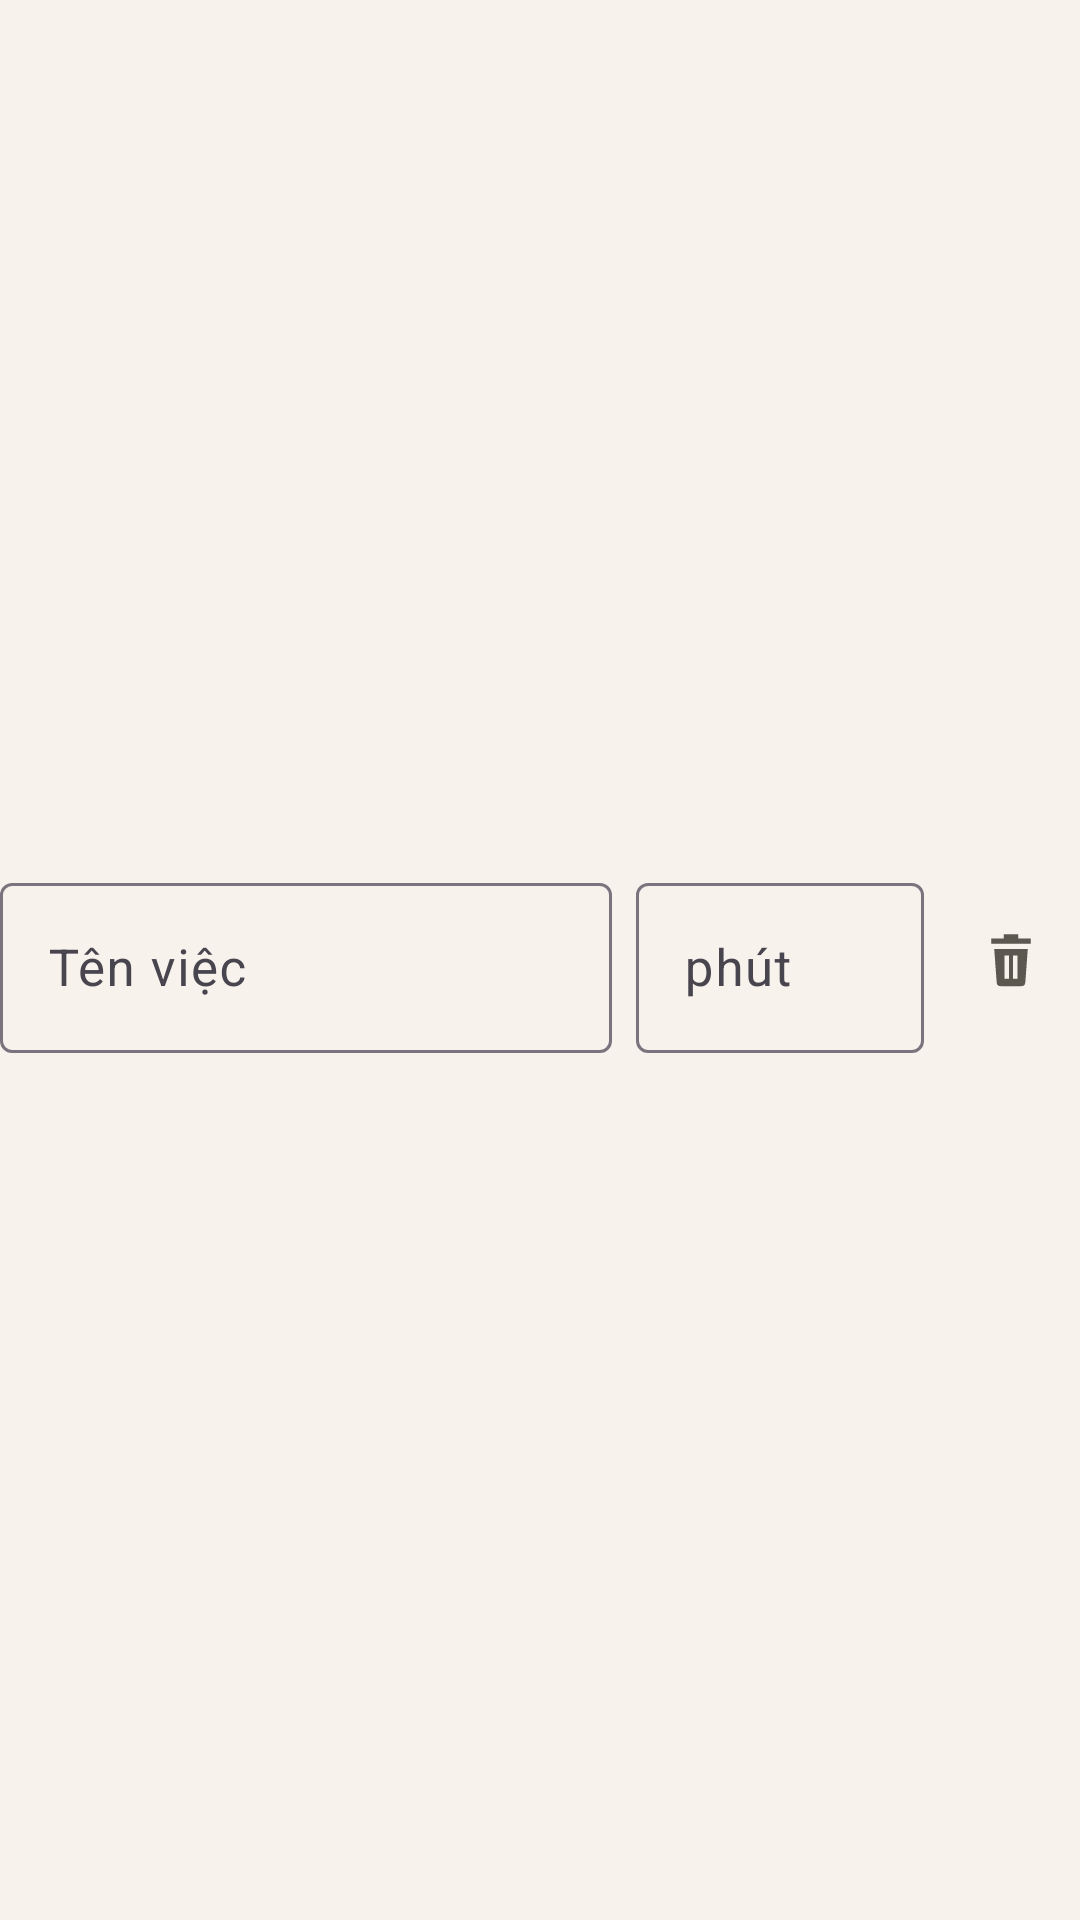

Screen size 1080px x 1920px. Icon name, then its box in pixels as bbox=(x1, y1, x2, y2):
Xoá việc này: bbox=(991, 934, 1031, 987)
